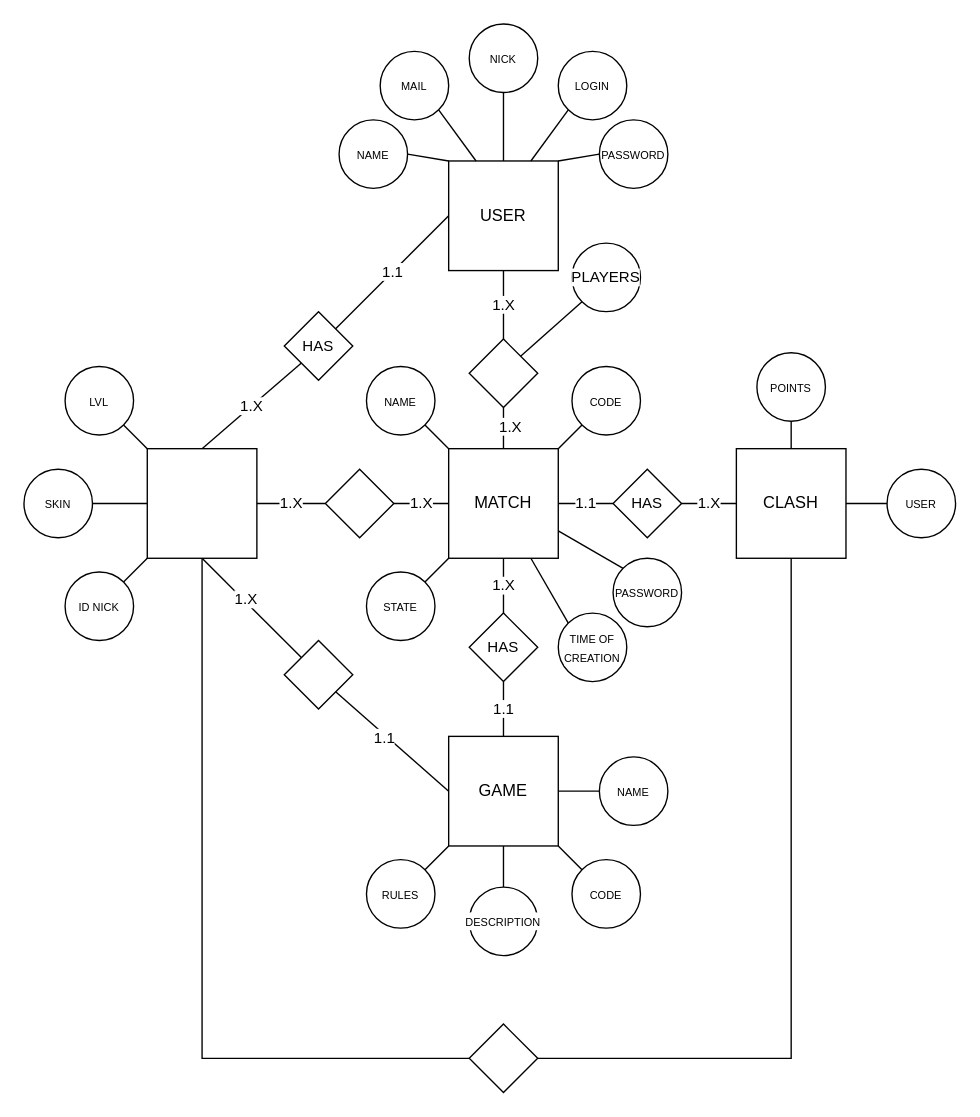
This 980x1117 diagram has some shape labels left out. Each missing label, with the box of its shape:
ACCESS: (324, 468, 394, 538)
AVATAR: (146, 447, 257, 558)
CREATES: (468, 338, 538, 408)
FIGHTS: (468, 1023, 538, 1093)
USES: (283, 639, 353, 709)
